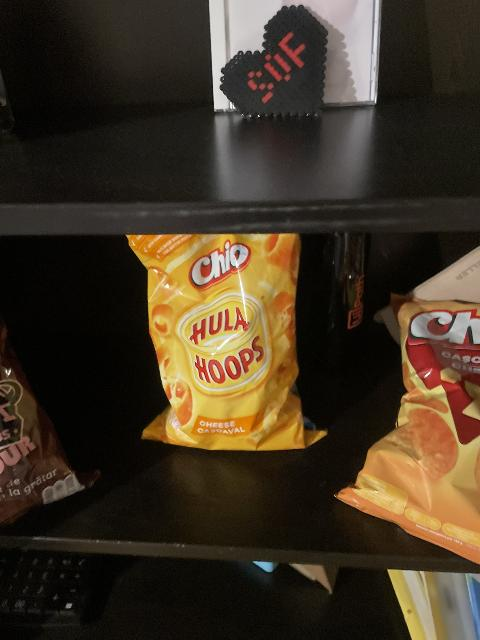Chio Cascaval 125g: (336, 294, 476, 572)
Chio Hula Hoops Cheese 70g: (124, 239, 321, 452)
Lays Beef Grilled Ribs 125g: (1, 312, 101, 529)
